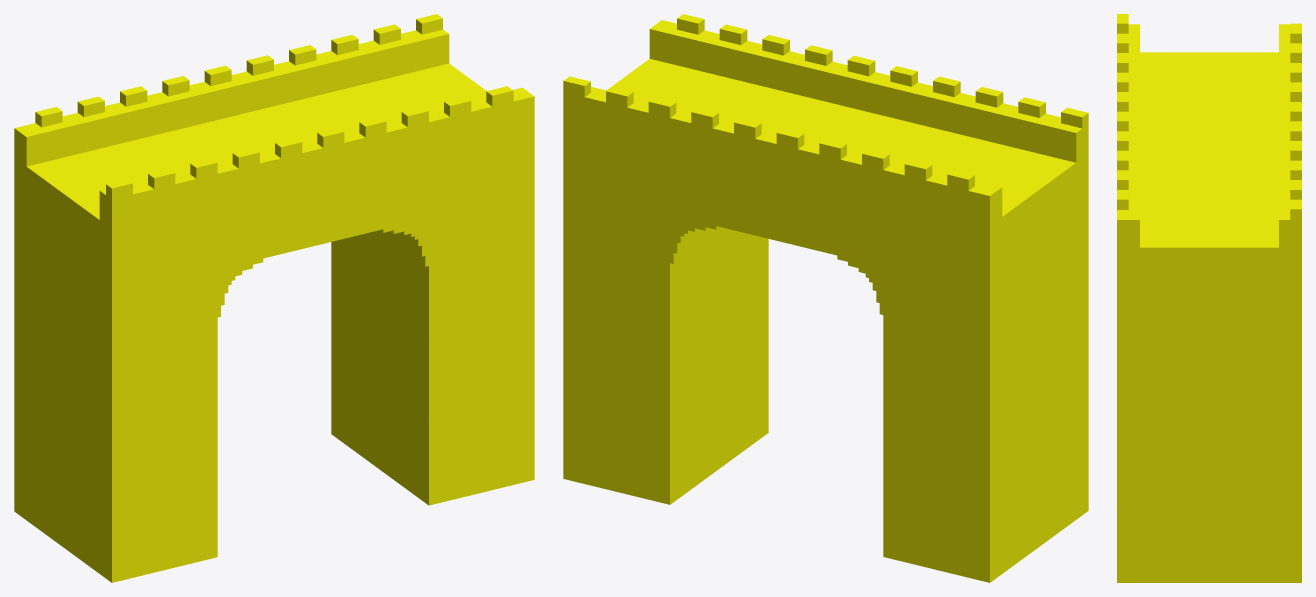
File: voxel-knights-bridge.glb
3 views of the same model, side by side, from view 1: azimuth 30°, elevation 25°; view 2: azimuth 150°, elevation 25°; view 3: azimuth 270°, elevation 25° (orthographic). The views are drawn at different scales.
Visible parts, largest first — view 1: ObjObject.005; view 2: ObjObject.005; view 3: ObjObject.005.
Part boxes in pixels (left/top/right/bottom): ObjObject.005: left=14, top=14, right=534, bottom=582; ObjObject.005: left=563, top=14, right=1088, bottom=582; ObjObject.005: left=1117, top=14, right=1301, bottom=582.
Size of the model in its own units: 12 by 10.7 by 4.8.
